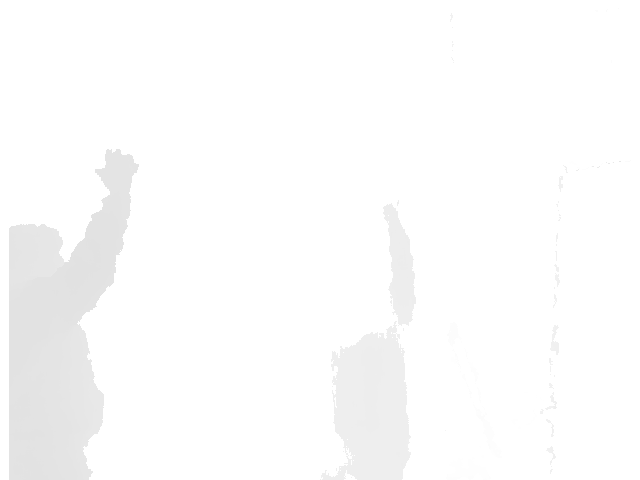hand: (96, 148, 138, 204)
head: (8, 222, 70, 298)
person: (8, 148, 138, 479)
